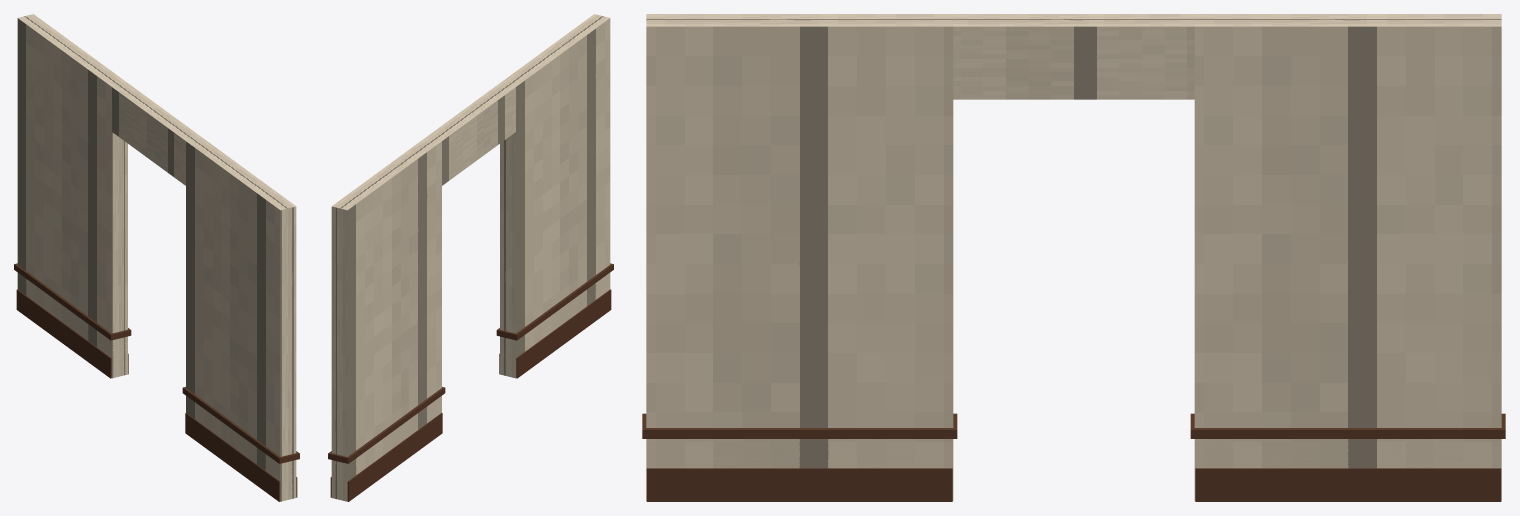
Rendered from dining_kitchen.glb.
3 views of the same model, side by side, from view 1: azimuth 30°, elevation 25°; view 2: azimuth 150°, elevation 25°; view 3: azimuth 270°, elevation 25° (orthographic). The views are drawn at different scales.
Visible parts, largest first — view 1: Box3, Box1, Box5, Box4, Box2, Box6, Box7, Box9; view 2: Box1, Box3, Box5, Box2, Box4, Box8, Box7, Box9; view 3: Box3, Box1, Box5, Box2, Box4, Box6, Box8, Box7, Box9.
Part boxes in pixels (x1,y1,x2,y2): Box3: (186,137,296,501); Box1: (17,14,127,378); Box5: (112,83,201,185); Box4: (185,413,297,501); Box2: (16,289,128,378); Box6: (17,273,127,377); Box7: (14,263,131,340); Box9: (182,387,299,463); Box1: (331,137,441,501); Box3: (500,14,610,378); Box5: (426,83,515,185); Box2: (330,413,442,501); Box4: (499,289,611,378); Box8: (500,275,609,377); Box7: (328,387,445,463); Box9: (496,263,613,340); Box3: (646,14,953,500); Box1: (1194,14,1501,500); Box5: (953,14,1194,99); Box2: (1195,468,1501,501); Box4: (646,468,952,501); Box6: (1194,439,1501,500); Box8: (646,439,953,495); Box7: (1190,413,1505,438); Box9: (642,413,957,438).
Bounding box in the file's own units: 0.19 × 2.6 × 4.29.
2 materials, 1 textured.
